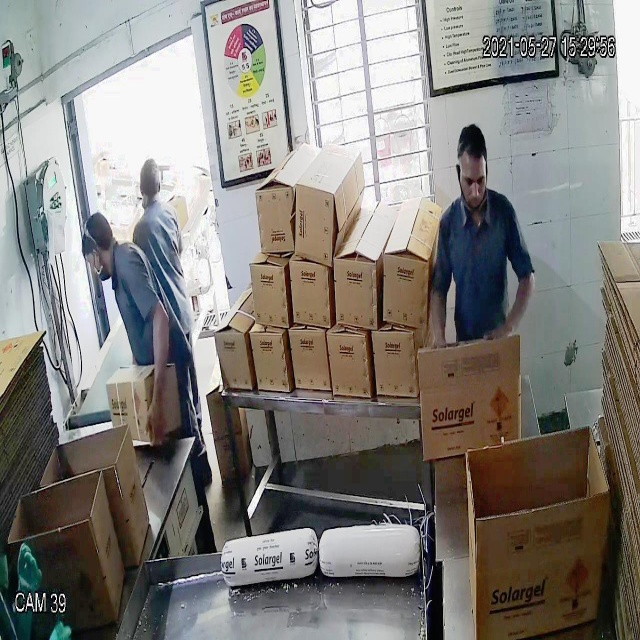Sin_gafas: (456, 162, 493, 196)
